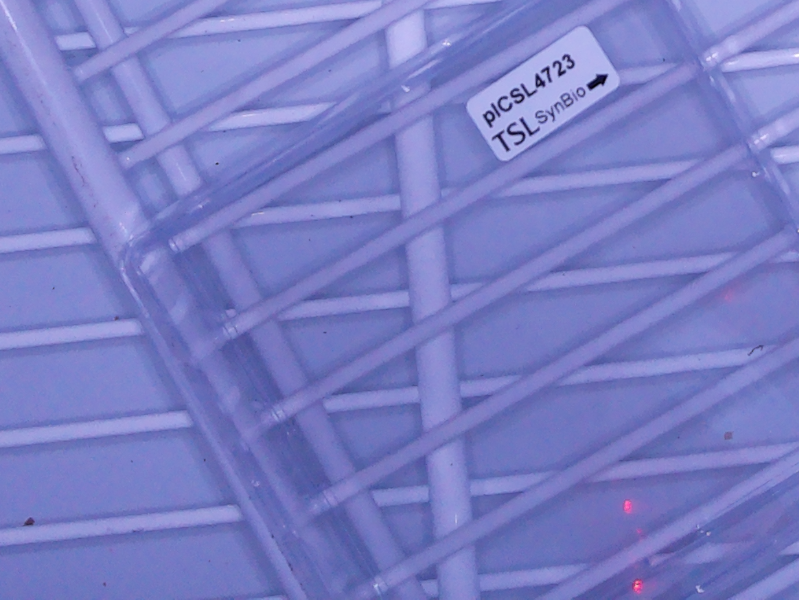plate: (115, 1, 799, 600)
